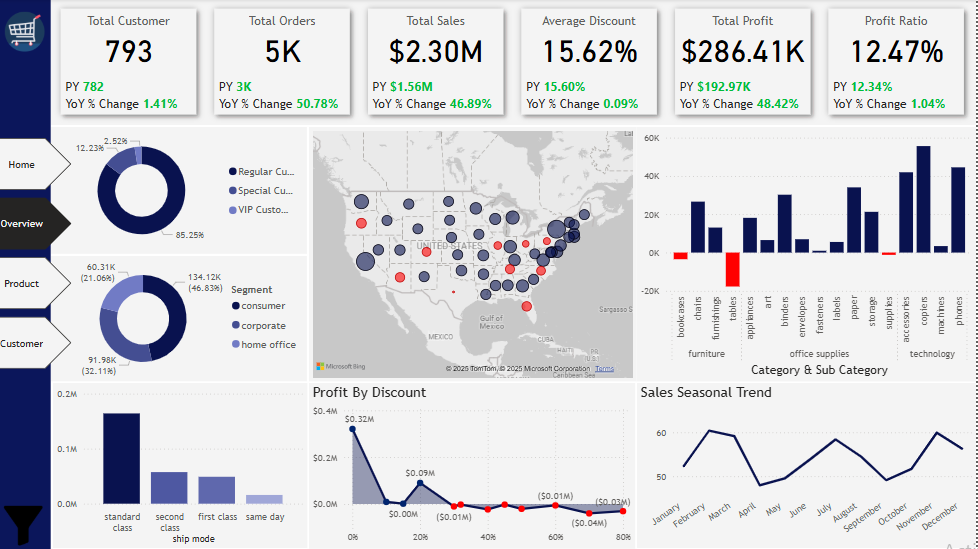

What the dashboard file says about the page in this screenshot:
{"tool":"powerbi","page":{"name":"Overview","canvas":[1280,720],"ordinal":1},"visuals":[{"type":"donutChart","fields":{"Category":["cleande_Superstore_data.Customer Category"],"Y":["_Measures Table.Total Customer"]},"box":[69.4,167.6,335.1,166.3],"z":0},{"type":"cardVisual","fields":{"Data":["_Measures Table.Total Customer","_Measures Table.Total Orders","_Measures Table.Total Sales","_Measures Table.Average Discount","_Measures Table.Total Profit","_Measures Table.Profit Ratio"]},"box":[69.4,0,1210.9,164.9],"z":1000},{"type":"map","fields":{"Category":["cleande_Superstore_data.Geographical Hierarchy.state","cleande_Superstore_data.Geographical Hierarchy.city"],"Size":["MeasureSelector.Dynamic Measure"]},"box":[407.1,167.6,429.4,332.5],"z":2000},{"type":"clusteredColumnChart","fields":{"Y":["MeasureSelector.Dynamic Measure"],"Category":["cleande_Superstore_data.category","cleande_Superstore_data.sub-category"]},"box":[836.5,167.6,443.8,332.5],"z":3000},{"type":"clusteredColumnChart","fields":{"Category":["cleande_Superstore_data.ship mode"],"Y":["MeasureSelector.Dynamic Measure"]},"box":[72,502.7,332.5,216],"z":4000},{"type":"shape","box":[0,1.3,69.4,718.7],"z":5000},{"type":"donutChart","fields":{"Category":["cleande_Superstore_data.segment"],"Y":["MeasureSelector.Dynamic Measure"]},"box":[69.4,336.4,335.1,163.6],"z":6000},{"type":"image","box":[0,658.5,65.5,61.5],"z":7000},{"type":"lineChart","title":"Sales Seasonal Trend","fields":{"Category":["DateTable.Month Name"],"Y":["Median(cleande_Superstore_data.sales)"]},"box":[836.5,502.7,443.8,216],"z":9000},{"type":"areaChart","title":"Profit By Discount","fields":{"Category":["cleande_Superstore_data.discount"],"Y":["_Measures Table.Total Profit"]},"box":[407.1,502.7,426.8,217.3],"z":10000},{"type":"image","box":[3.9,11.8,62.8,61.5],"z":12000},{"type":"pageNavigator","box":[0,182,96.9,303.7],"z":13000}]}

Visuals, with their boxes in screenshot pixels (x1, y1, x2, y2), scaled from the page's 1280x720 canvas onto the 978x549 screenshot:
donutChart - cleande_Superstore_data.Customer Category x _Measures Table.Total Customer: pyautogui.locateOnScreen(53, 128, 309, 255)
cardVisual - _Measures Table.Total Customer x _Measures Table.Total Orders: pyautogui.locateOnScreen(53, 0, 977, 126)
map - cleande_Superstore_data.Geographical Hierarchy.state x cleande_Superstore_data.Geographical Hierarchy.city: pyautogui.locateOnScreen(311, 128, 639, 381)
clusteredColumnChart - MeasureSelector.Dynamic Measure x cleande_Superstore_data.category: pyautogui.locateOnScreen(639, 128, 977, 381)
clusteredColumnChart - cleande_Superstore_data.ship mode x MeasureSelector.Dynamic Measure: pyautogui.locateOnScreen(55, 383, 309, 548)
shape: pyautogui.locateOnScreen(0, 1, 53, 548)
donutChart - cleande_Superstore_data.segment x MeasureSelector.Dynamic Measure: pyautogui.locateOnScreen(53, 257, 309, 381)
image: pyautogui.locateOnScreen(0, 502, 50, 548)
"Sales Seasonal Trend" lineChart: pyautogui.locateOnScreen(639, 383, 977, 548)
"Profit By Discount" areaChart: pyautogui.locateOnScreen(311, 383, 637, 548)
image: pyautogui.locateOnScreen(3, 9, 51, 56)
pageNavigator: pyautogui.locateOnScreen(0, 139, 74, 370)
